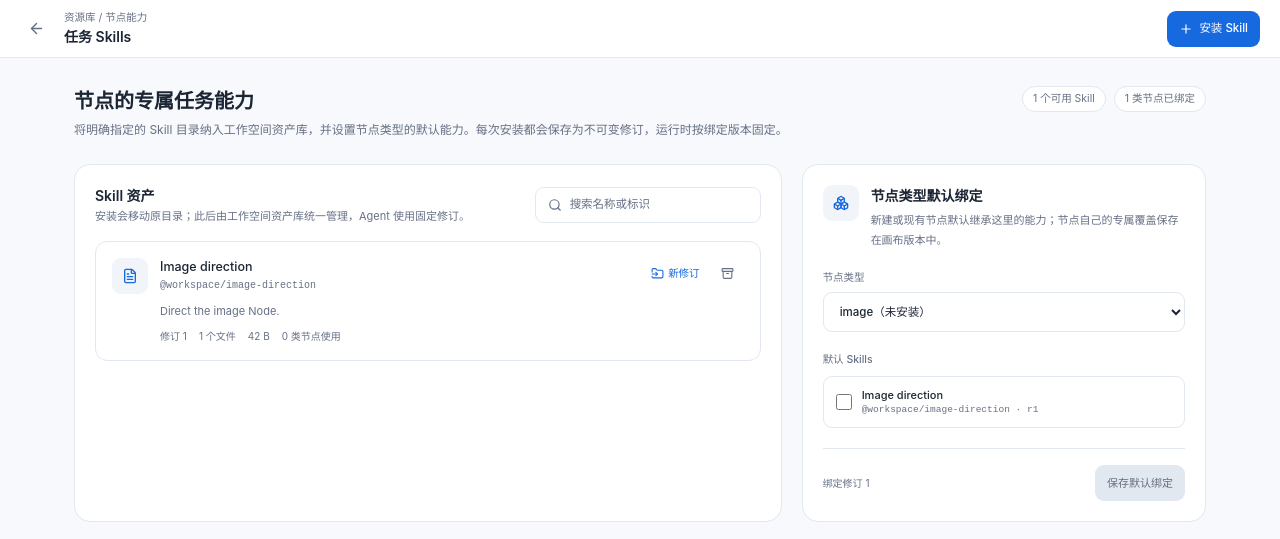
SkillResourceManager › updates a Node type default binding with the exact selected revision
This screenshot has width=1280, height=539.
Step 1. Click the checkbox labelled "Image direction @workspace/image-direction · r1" → coordinates (844, 402), box [836,394,852,410]
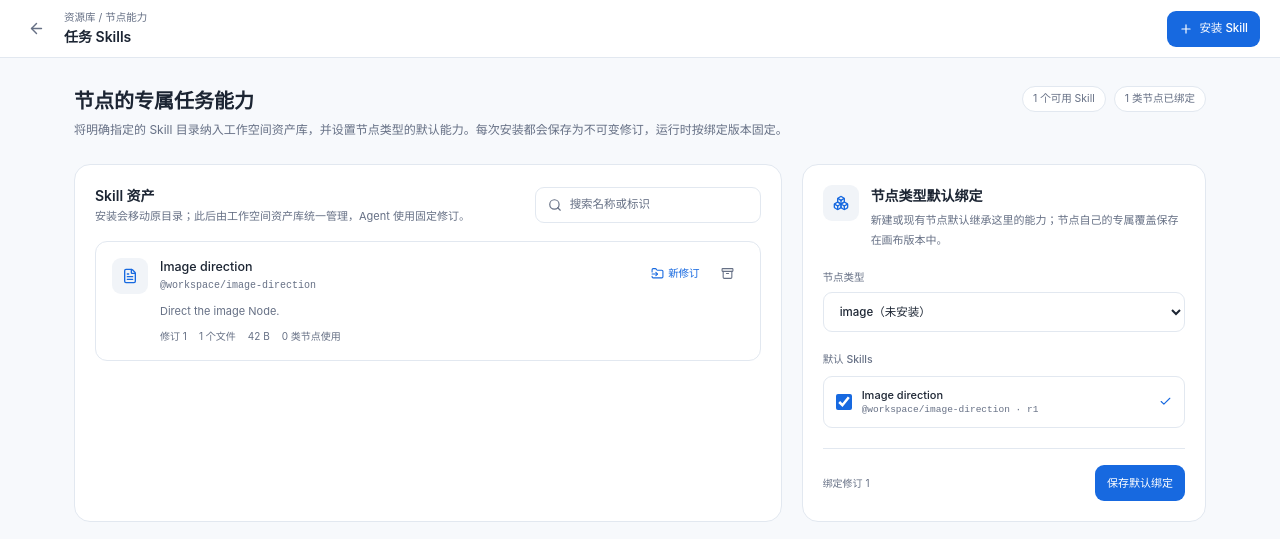
Check: the button "保存默认绑定" is enabled
Step 2. Click the button "保存默认绑定" → coordinates (1140, 483), box [1095,465,1185,501]
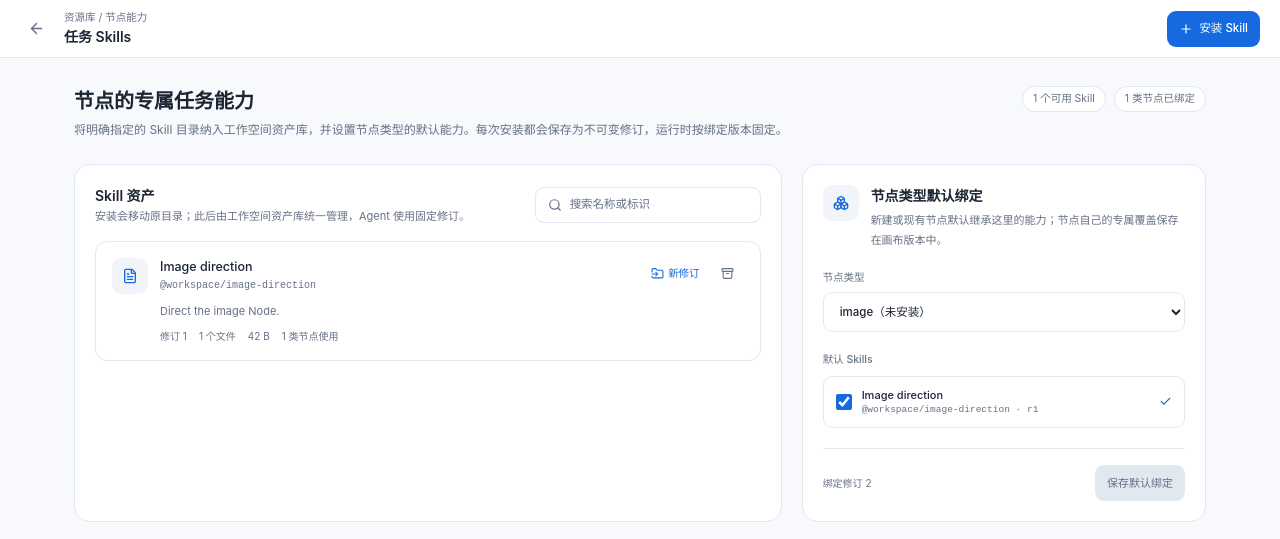
Check: the button "保存默认绑定" is disabled, box [1095,465,1185,501]
Check: the text "绑定修订 2" is shown, box [823,476,872,491]
